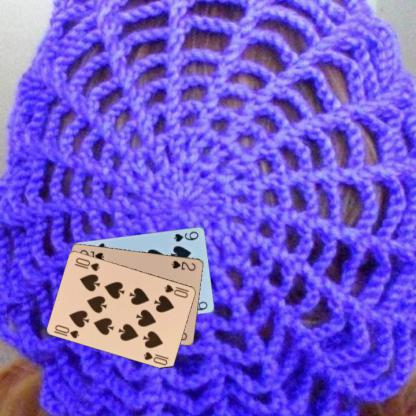10s: (53, 322, 80, 340), (162, 282, 190, 299)
2s: (169, 258, 197, 272)
9s: (172, 228, 200, 243)
